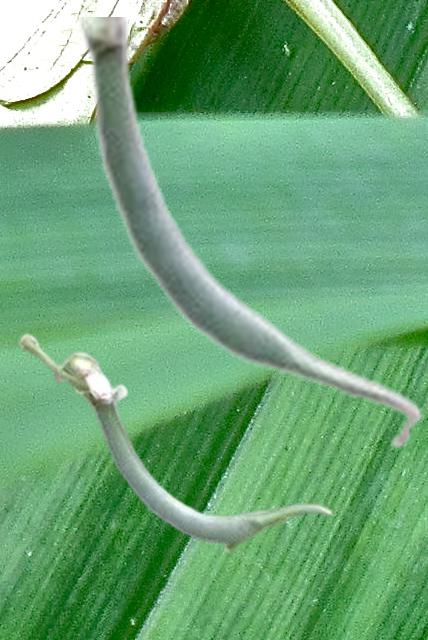french_bean: (78, 17, 422, 451), (18, 332, 332, 553)
